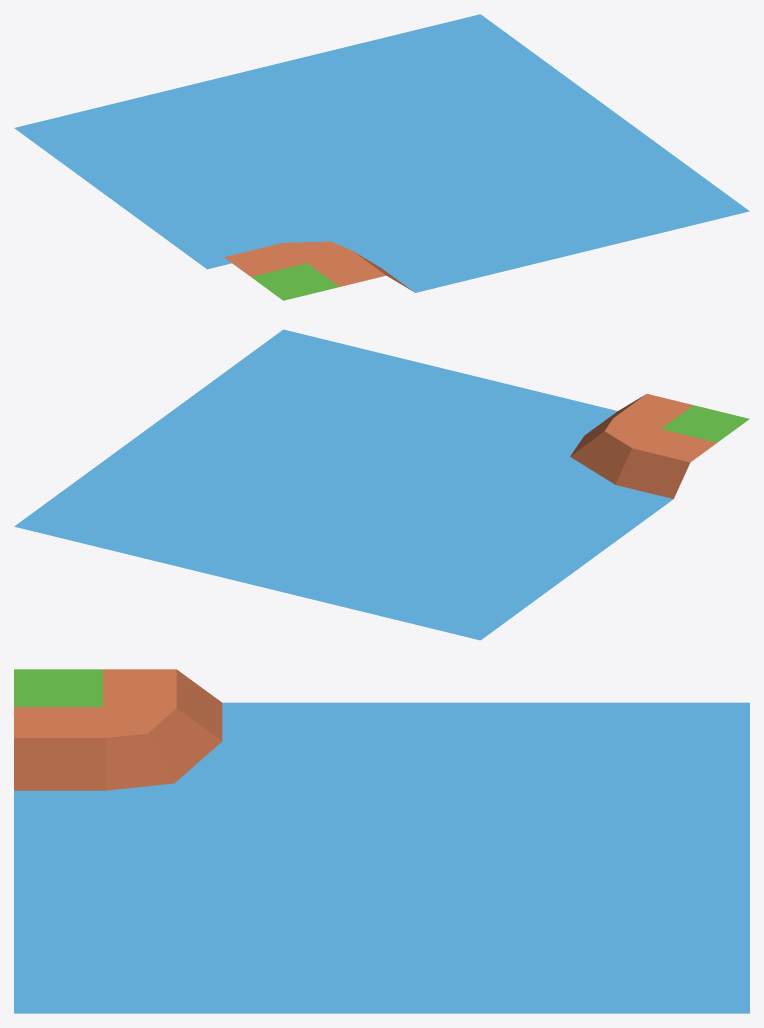
Rendered from ground_riverCornerSmall.glb.
3 renders of one model, top to bottom at view 1: azimuth 30°, elevation 25°; view 2: azimuth 150°, elevation 25°; view 3: azimuth 270°, elevation 25°, orthographic. The views are drawn at different scales.
Parts seen in each view (by area): view 1: ground_riverCornerSmall; view 2: ground_riverCornerSmall; view 3: ground_riverCornerSmall.
Part boxes in pixels (box(x1,y1,x2,y2)): ground_riverCornerSmall: box(14, 14, 749, 300); ground_riverCornerSmall: box(14, 329, 749, 640); ground_riverCornerSmall: box(14, 669, 749, 1013).
Size of the model in its own units: 1 by 0.05 by 1.
